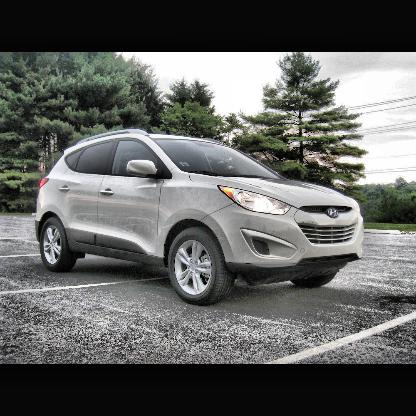Hyundai Tucson SUV 2012: (34, 130, 366, 308)
